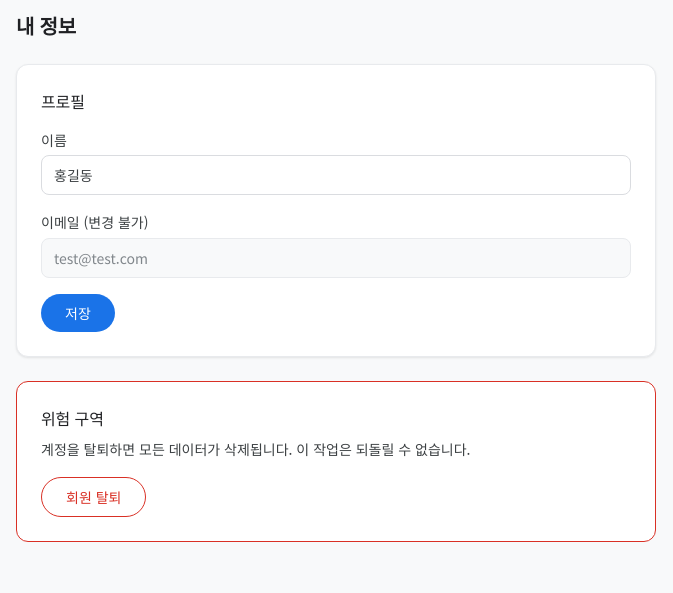
Test: ProfilePage › 이름 수정 후 저장 시 성공 메시지가 표시된다
Replace the text in the field showing "홍길동" with "수정된이름" at (336, 175), box [41,155,631,195]
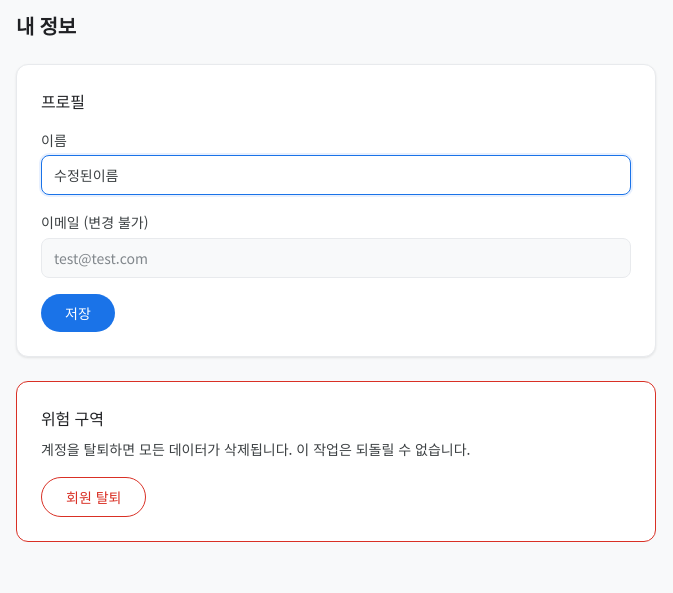
Click the button "저장" at (78, 313), box [41,294,115,332]
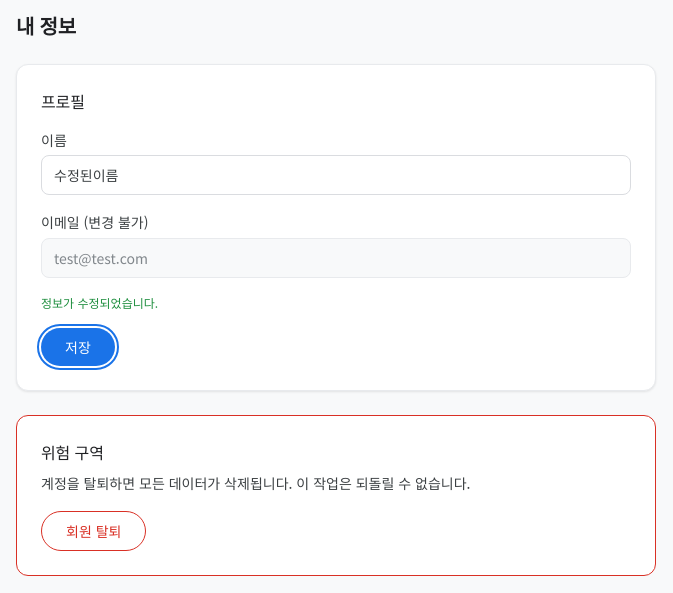
Result: the text "정보가 수정되었습니다." is shown at [41,294,158,311]
